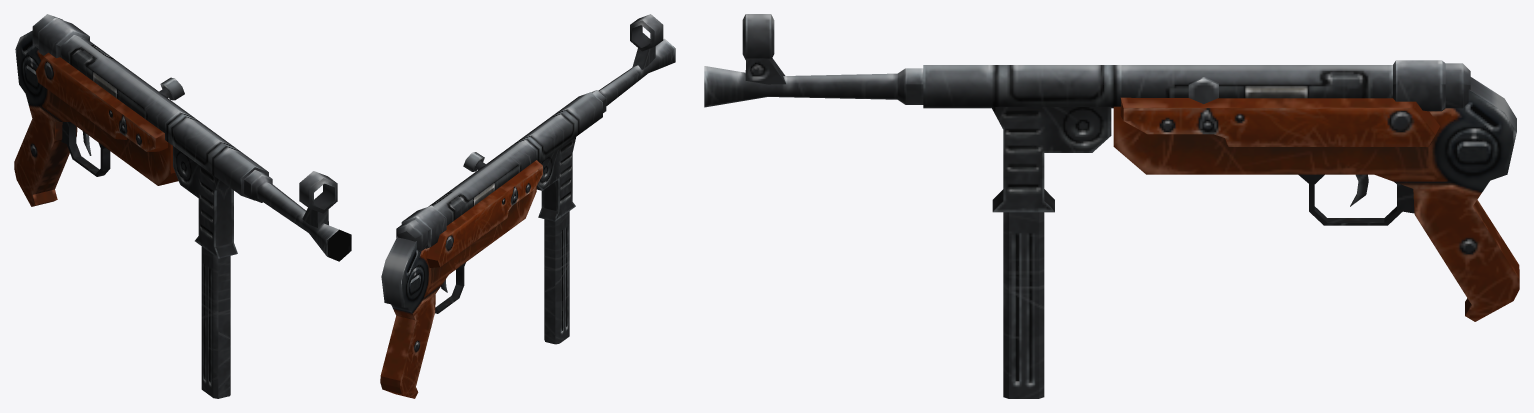
3 views of the same model, side by side, from view 1: azimuth 30°, elevation 25°; view 2: azimuth 150°, elevation 25°; view 3: azimuth 270°, elevation 25° (orthographic). The views are drawn at different scales.
Parts seen in each view (by area): view 1: mp_40, mp_40_ammo, mp_40_bolt; view 2: mp_40, mp_40_ammo, mp_40_bolt; view 3: mp_40, mp_40_ammo.
Boxes of the visible parts, box(x1,y1,x2,y2) form: mp_40: box(14, 14, 351, 261); mp_40_ammo: box(201, 246, 230, 398); mp_40_bolt: box(158, 77, 184, 100); mp_40: box(380, 14, 675, 398); mp_40_ammo: box(544, 211, 569, 344); mp_40_bolt: box(463, 152, 486, 171); mp_40: box(704, 14, 1519, 321); mp_40_ammo: box(1003, 212, 1044, 398).
Bounding box in the file's own units: 0.0493 × 0.2461 × 0.4794.
